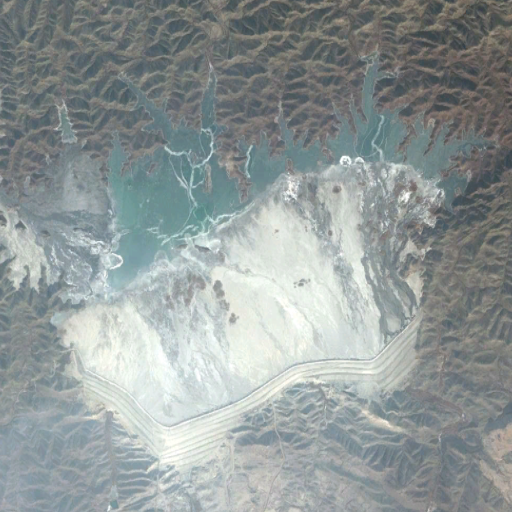tp: (52, 46, 499, 466)
